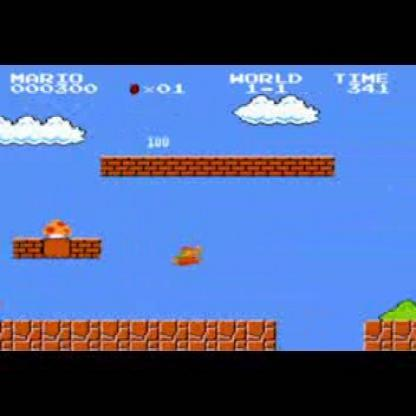Hoyo: (273, 317, 369, 352)
